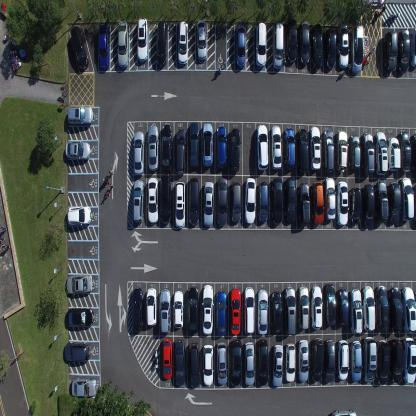car: (70, 24, 89, 72), (349, 24, 364, 73), (375, 285, 389, 333), (362, 335, 376, 383), (401, 286, 415, 333), (402, 337, 416, 384), (310, 180, 324, 226), (362, 285, 376, 331), (389, 286, 403, 332), (376, 340, 390, 386), (66, 306, 95, 328), (374, 131, 388, 176), (389, 338, 403, 383), (310, 338, 324, 382), (216, 176, 228, 227), (271, 175, 283, 226), (256, 124, 269, 171), (97, 24, 110, 71), (256, 338, 269, 385), (375, 180, 389, 223), (160, 122, 172, 172), (188, 341, 201, 387), (296, 127, 309, 173), (67, 104, 94, 126), (64, 139, 91, 161), (65, 204, 92, 226), (160, 173, 172, 222), (383, 30, 397, 72), (272, 21, 284, 70), (117, 19, 129, 68), (284, 287, 296, 336), (227, 127, 240, 172), (336, 181, 349, 226), (147, 122, 159, 170), (188, 176, 200, 224), (244, 176, 256, 224), (284, 176, 296, 224), (310, 22, 322, 70), (156, 20, 168, 68), (335, 128, 348, 172), (401, 175, 414, 219), (147, 176, 159, 223), (202, 283, 213, 334), (214, 126, 227, 169), (215, 341, 228, 384), (397, 30, 410, 73), (160, 288, 172, 334), (131, 288, 143, 334), (132, 178, 144, 224), (270, 124, 282, 170), (322, 128, 334, 174), (298, 20, 310, 66), (350, 288, 362, 334), (398, 130, 411, 172), (66, 274, 92, 295), (64, 340, 90, 361), (133, 130, 145, 175), (309, 125, 321, 170), (271, 343, 283, 388), (244, 286, 255, 335), (324, 28, 337, 69), (175, 126, 186, 174), (187, 285, 198, 333), (174, 338, 185, 386), (215, 288, 226, 336), (230, 179, 242, 223), (230, 337, 241, 385), (230, 287, 241, 335), (298, 182, 310, 226), (324, 178, 336, 222), (363, 183, 375, 227), (388, 180, 400, 224), (337, 25, 349, 69), (257, 288, 268, 336), (297, 286, 309, 330), (311, 286, 323, 330), (323, 338, 335, 382), (297, 338, 309, 382), (71, 378, 97, 398), (387, 135, 401, 172), (203, 180, 214, 227), (137, 16, 148, 63), (257, 180, 269, 223), (284, 127, 296, 170), (324, 283, 336, 326), (161, 337, 173, 379), (362, 132, 374, 174), (337, 339, 349, 381), (243, 340, 254, 385), (286, 18, 297, 63), (178, 19, 189, 64), (350, 340, 362, 381), (284, 342, 296, 383), (202, 122, 213, 166), (235, 23, 246, 67), (188, 121, 198, 169), (175, 180, 185, 228), (203, 343, 214, 386), (271, 290, 282, 333), (349, 185, 361, 224), (256, 21, 266, 67), (349, 133, 361, 171), (337, 287, 349, 325), (146, 287, 157, 327), (197, 18, 207, 62), (173, 289, 184, 328), (410, 134, 416, 175), (410, 27, 415, 69), (330, 408, 356, 415)
